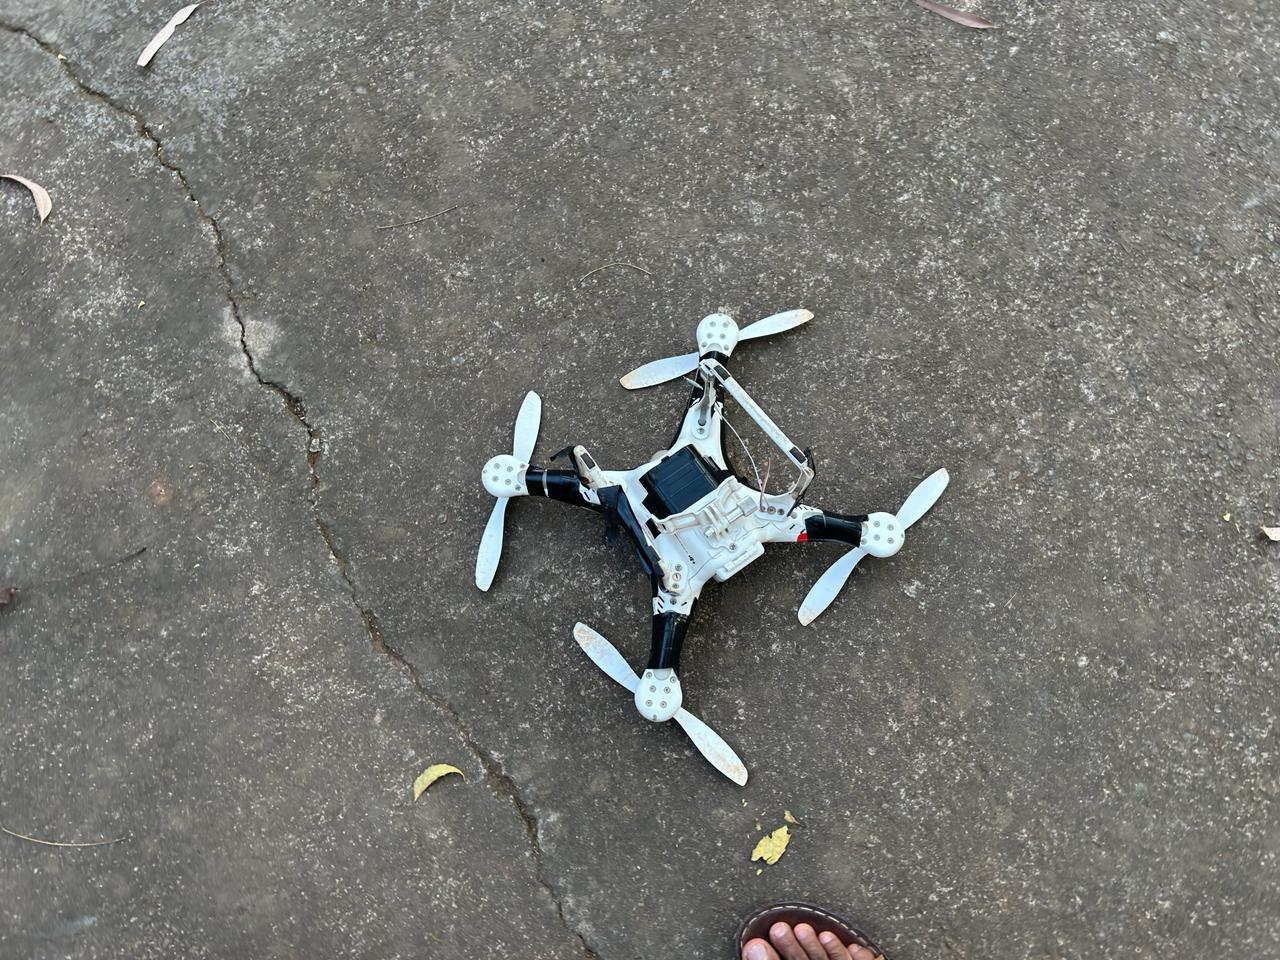drone: (252, 218, 1113, 820)
